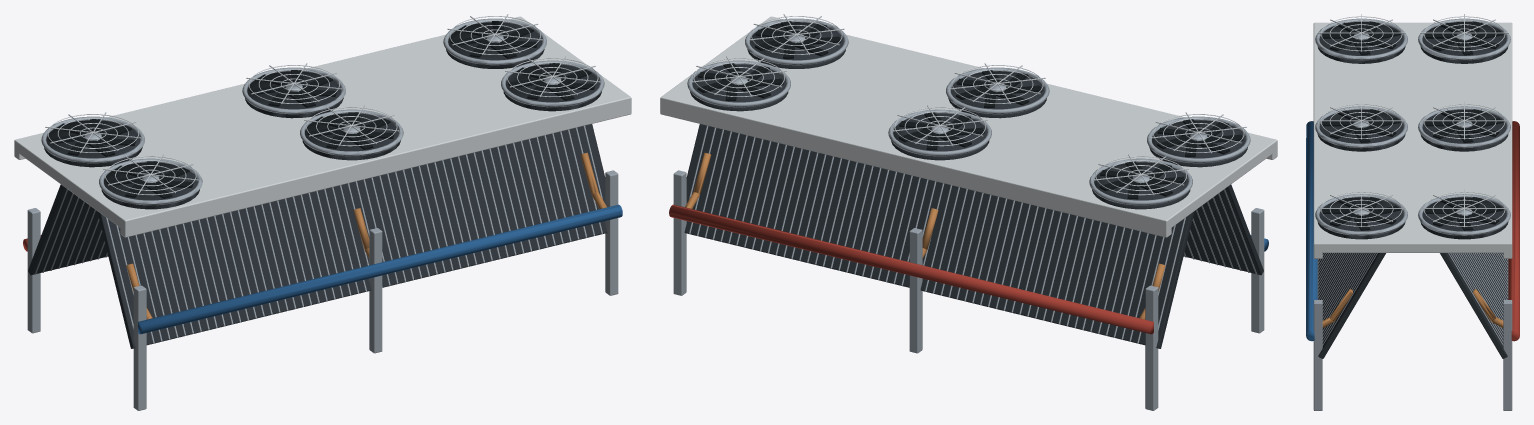
The model's file is DryCooler.glb.
3 views of the same model, side by side, from view 1: azimuth 30°, elevation 25°; view 2: azimuth 150°, elevation 25°; view 3: azimuth 270°, elevation 25° (orthographic). The views are drawn at different scales.
Visible parts, largest first — view 1: Frame_and_V_coils, Supply_return_headers, Fan_01, Fan_02, Fan_03, Fan_04, Fan_05, Fan_06, FanRotor_06, FanRotor_01, FanRotor_02, FanRotor_03 (+2 smaller); view 2: Frame_and_V_coils, Supply_return_headers, Fan_05, Fan_04, Fan_06, Fan_01, Fan_03, Fan_02, FanRotor_04, FanRotor_05, FanRotor_01, FanRotor_03 (+2 smaller); view 3: Frame_and_V_coils, Supply_return_headers, Fan_01, Fan_04, Fan_05, Fan_02, Fan_03, Fan_06, FanRotor_01, FanRotor_02, FanRotor_04, FanRotor_05 (+2 smaller).
Boxes of the visible parts, <box> form: Frame_and_V_coils: <box>14,16,631,410</box>; Supply_return_headers: <box>23,152,622,334</box>; Fan_01: <box>99,154,202,209</box>; Fan_02: <box>300,105,403,160</box>; Fan_03: <box>501,56,604,111</box>; Fan_04: <box>41,112,144,167</box>; Fan_05: <box>242,63,345,118</box>; Fan_06: <box>443,14,546,68</box>; FanRotor_06: <box>450,21,537,58</box>; FanRotor_01: <box>106,161,193,198</box>; FanRotor_02: <box>307,112,394,149</box>; FanRotor_03: <box>508,63,595,100</box>; Frame_and_V_coils: <box>660,16,1277,410</box>; Supply_return_headers: <box>669,152,1268,334</box>; Fan_05: <box>888,105,991,160</box>; Fan_04: <box>1089,154,1192,209</box>; Fan_06: <box>687,56,790,111</box>; Fan_01: <box>1147,112,1250,167</box>; Fan_03: <box>745,14,848,68</box>; Fan_02: <box>946,63,1049,118</box>; FanRotor_04: <box>1099,161,1185,199</box>; FanRotor_05: <box>898,112,984,149</box>; FanRotor_01: <box>1157,119,1243,156</box>; FanRotor_03: <box>755,21,841,58</box>; Frame_and_V_coils: <box>1313,22,1512,410</box>; Supply_return_headers: <box>1306,121,1519,341</box>; Fan_01: <box>1315,14,1407,63</box>; Fan_04: <box>1418,14,1510,63</box>; Fan_05: <box>1418,101,1510,151</box>; Fan_02: <box>1315,101,1407,151</box>; Fan_03: <box>1315,189,1407,239</box>; Fan_06: <box>1418,189,1510,239</box>; FanRotor_01: <box>1322,21,1400,55</box>; FanRotor_02: <box>1322,109,1400,143</box>; FanRotor_04: <box>1425,21,1503,55</box>; FanRotor_05: <box>1425,109,1503,143</box>.
Size of the model in its own units: 5.8 by 2.27 by 2.37.
